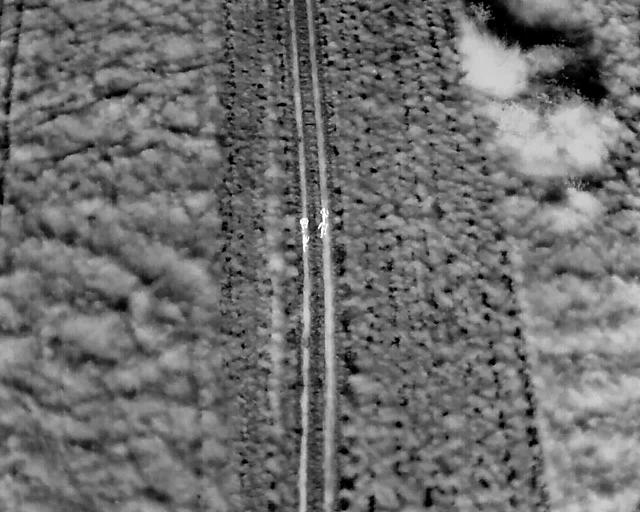person: (317, 217, 329, 239), (300, 230, 310, 252), (318, 204, 329, 223), (299, 213, 309, 231)
